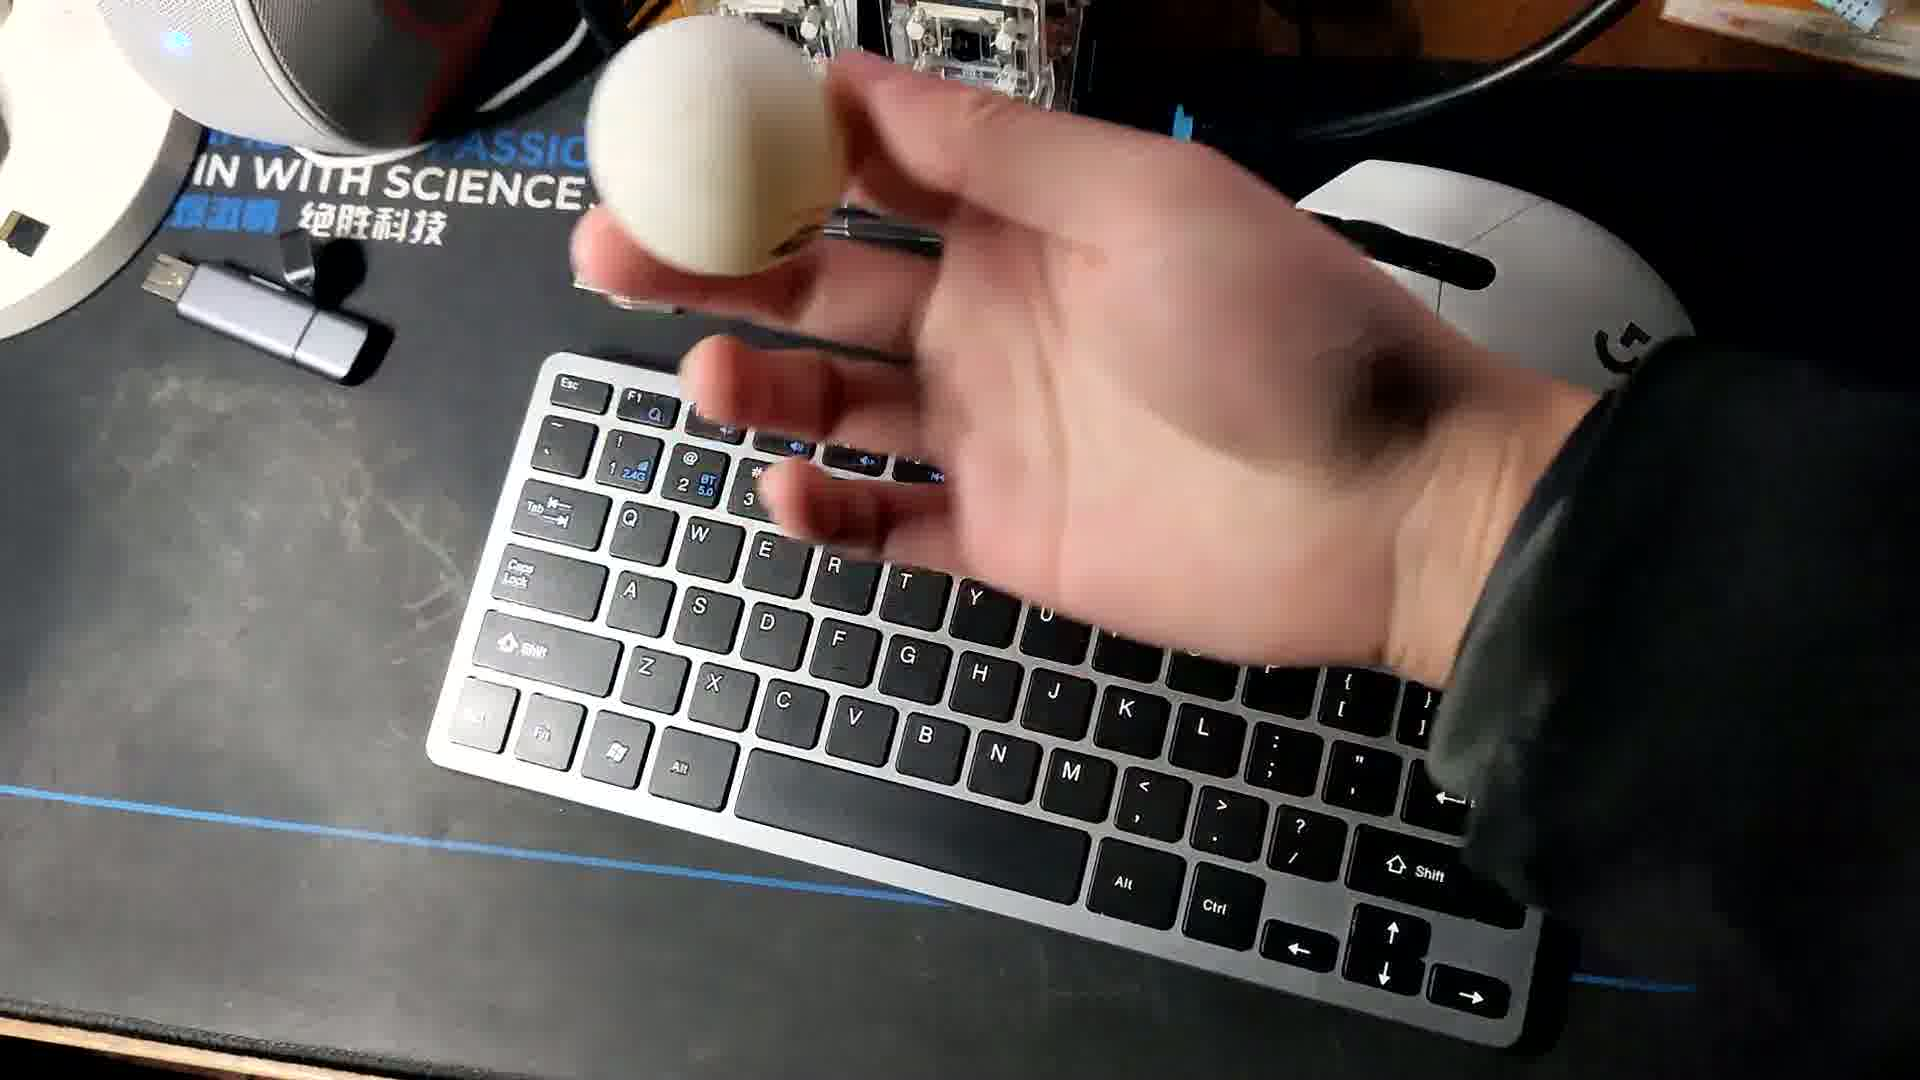Ball: (588, 15, 849, 277)
